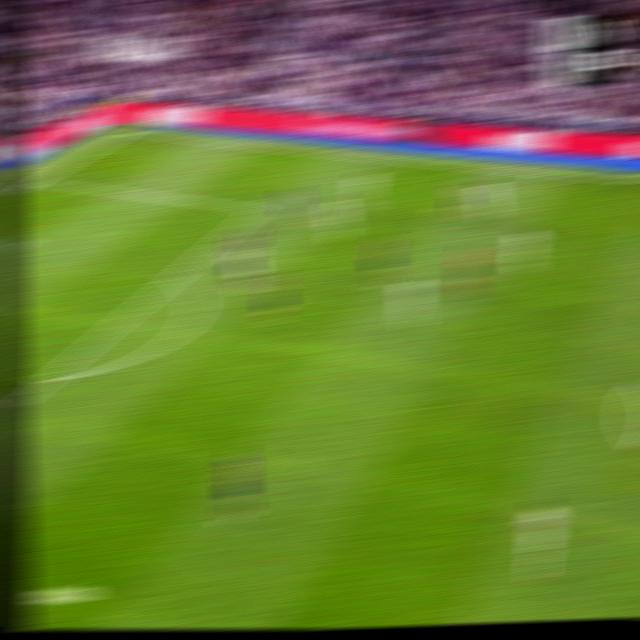bigarea_top_inner: (246, 200, 269, 216)
bigarea_top_outter: (28, 171, 50, 184)
bottom_arc_area_intersection: (35, 367, 60, 388)
corner: (118, 124, 142, 135)
smallarea_top_inner: (8, 233, 32, 250)
top_arc_area_intersection: (166, 265, 189, 282)
